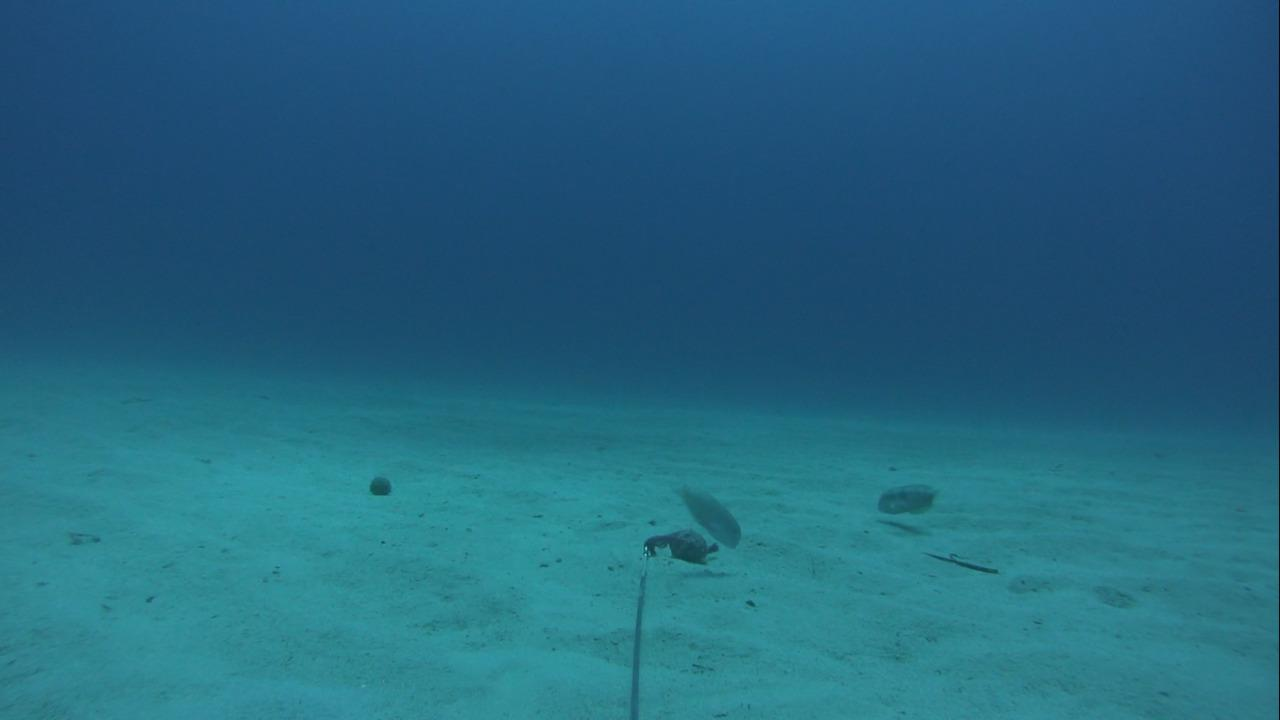raor: (667, 480, 743, 549), (875, 479, 942, 520)
